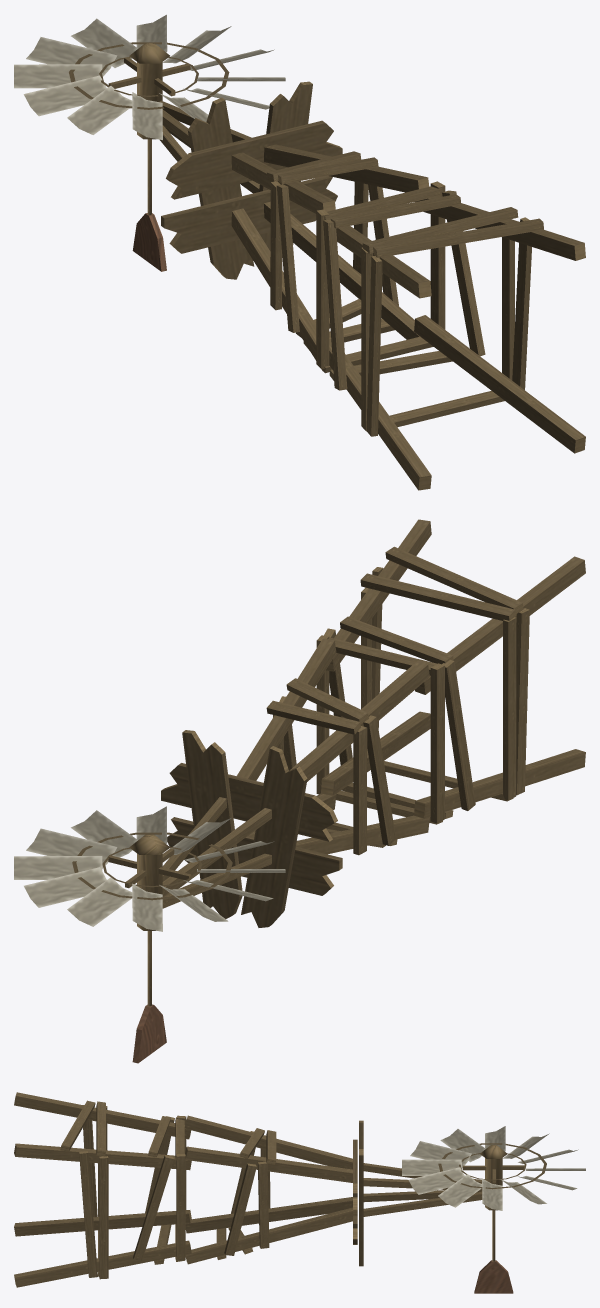
The model's file is Windmill_a.fbx.
3 views of the same model, one above another, from view 1: azimuth 30°, elevation 25°; view 2: azimuth 150°, elevation 25°; view 3: azimuth 270°, elevation 25° (orthographic). The views are drawn at different scales.
Parts seen in each view (by area): view 1: Windmill_a, Windmill_b; view 2: Windmill_a, Windmill_b; view 3: Windmill_a, Windmill_b.
Part boxes in pixels (x1,y1,x2,y2): Windmill_a: (132, 81, 585, 490); Windmill_b: (14, 14, 285, 214); Windmill_a: (132, 519, 585, 1063); Windmill_b: (14, 806, 285, 1006); Windmill_a: (14, 1092, 513, 1293); Windmill_b: (402, 1126, 585, 1261).
Size of the model in its own units: 632 by 655 by 1962.
